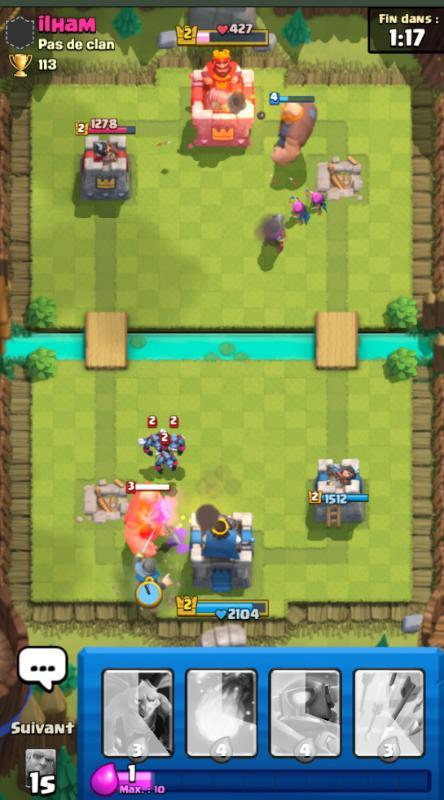enemy_giant: (117, 481, 181, 567)
enemy_minions: (136, 427, 167, 455), (150, 447, 180, 473), (162, 431, 188, 456)
player_archers: (285, 192, 312, 228), (304, 183, 330, 217)
player_giant: (267, 93, 322, 170)
player_knight: (130, 553, 174, 603)
